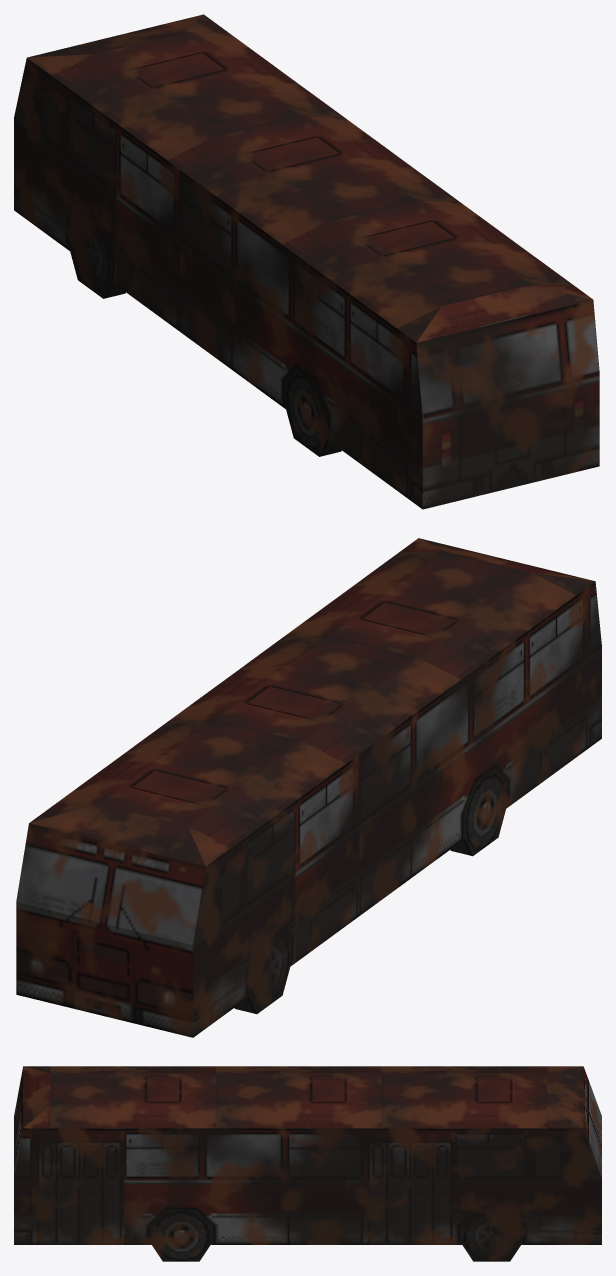
Rendered from prop_bus_burnt.glb.
The picture shows the model from 3 angles, top to bottom: view 1: azimuth 30°, elevation 25°; view 2: azimuth 150°, elevation 25°; view 3: azimuth 270°, elevation 25°; orthographic projection. The views are drawn at different scales.
Parts seen in each view (by area): view 1: hull; view 2: hull; view 3: hull.
Part boxes in pixels (x1=…): hull: x1=14, y1=14, x2=599, y2=509; hull: x1=16, y1=538, x2=601, y2=1037; hull: x1=14, y1=1066, x2=601, y2=1261.
Size of the model in its own units: 1.32 by 1.38 by 5.2.
1 material, 1 textured.
